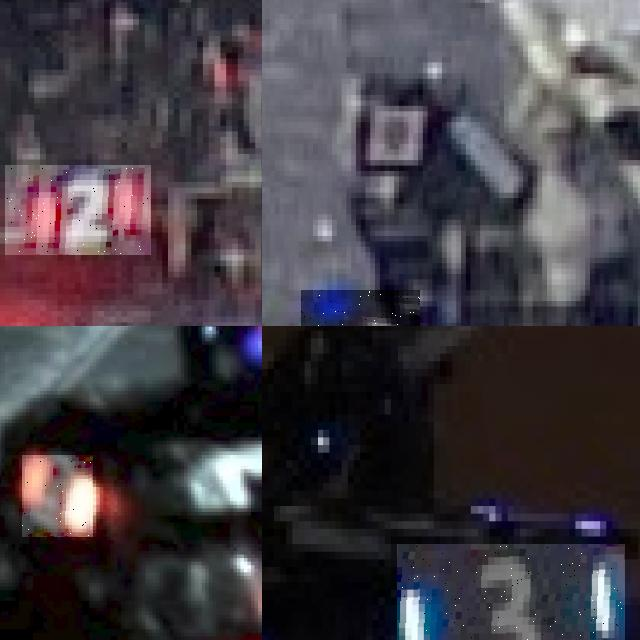B1: (300, 290, 420, 326)
B3: (397, 544, 624, 640)
R2: (5, 165, 151, 255)
Rs: (22, 455, 93, 537)
